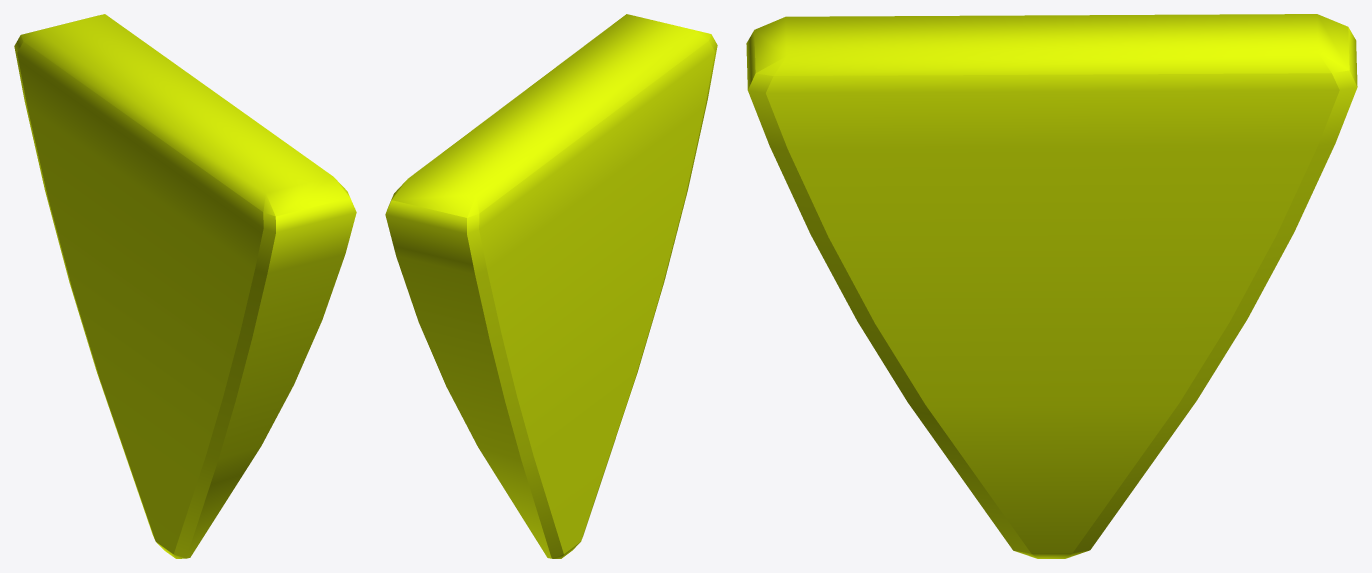
Rendered from Arrow rescale.fbx.
3 views of the same model, side by side, from view 1: azimuth 30°, elevation 25°; view 2: azimuth 150°, elevation 25°; view 3: azimuth 270°, elevation 25° (orthographic). The views are drawn at different scales.
Visible parts, largest first — view 1: Arrow_rescale; view 2: Arrow_rescale; view 3: Arrow_rescale.
Part boxes in pixels (left/top/right/bottom): Arrow_rescale: left=14, top=14, right=356, bottom=558; Arrow_rescale: left=385, top=14, right=717, bottom=558; Arrow_rescale: left=746, top=14, right=1357, bottom=558.
Bounding box in the file's own units: 0.7807 × 3.48 × 3.63.
